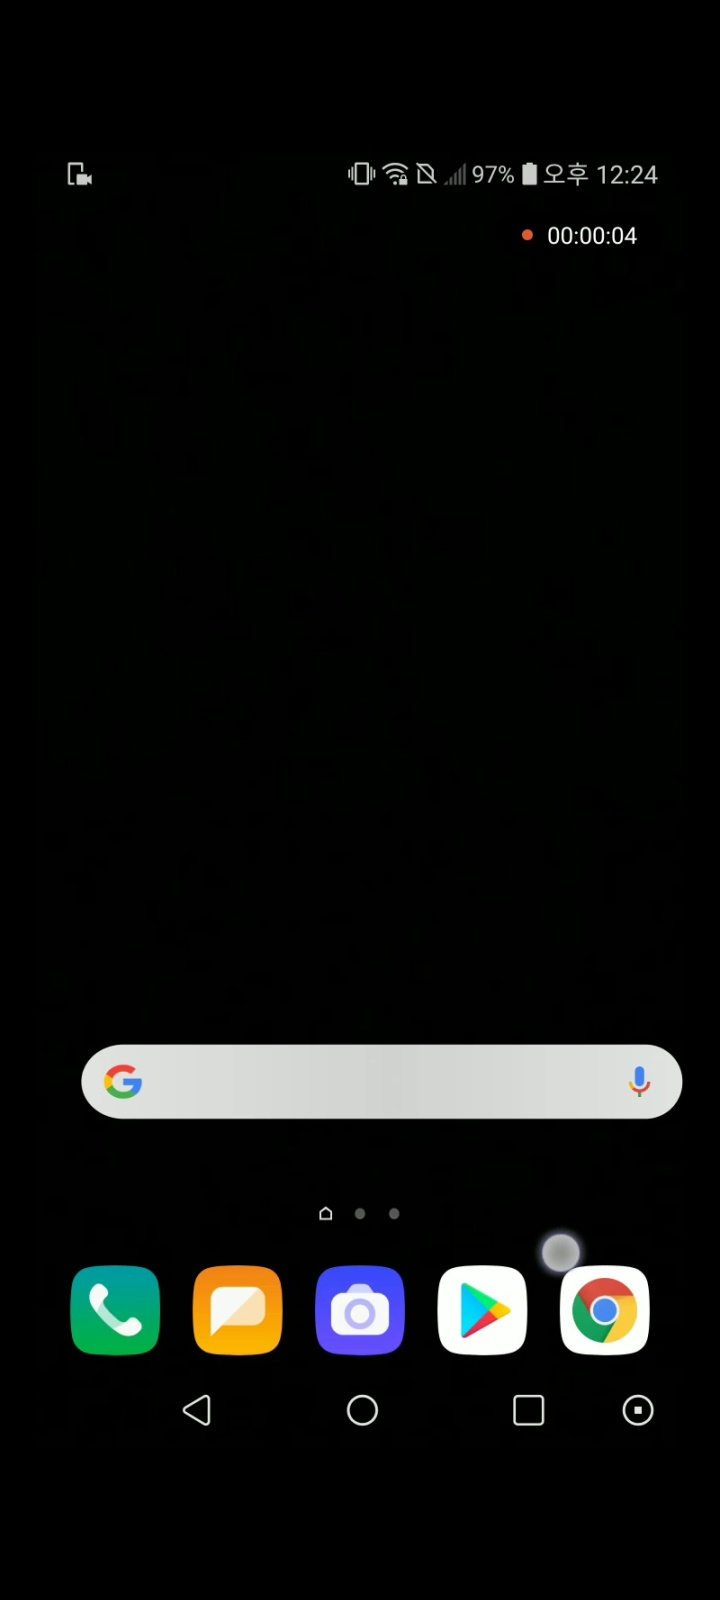Cursor: (536, 1232, 581, 1277)
